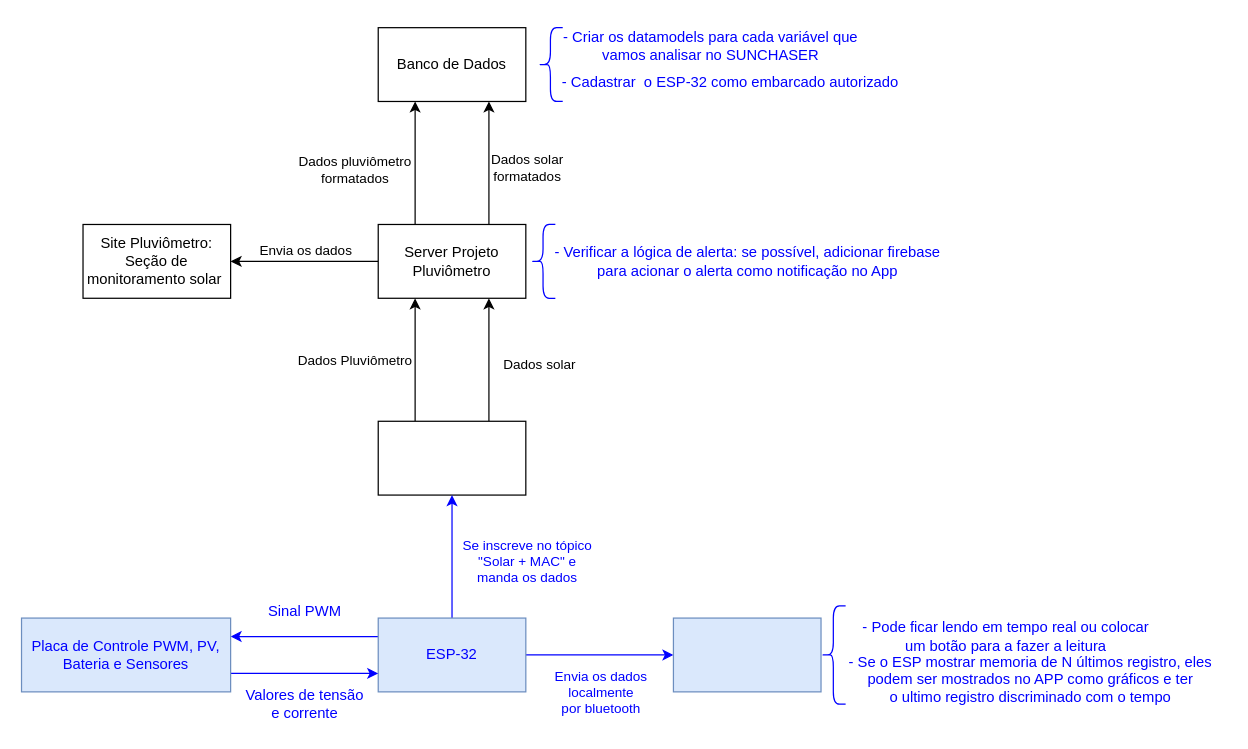
Some shapes in this 1248 by 749 pixel diagram are drawn without their labels. Each missing label, with the centre of its shape:
App Mobile para os dados da placa solar: the point at 746,654
Broker MQTT: the point at 451,457
